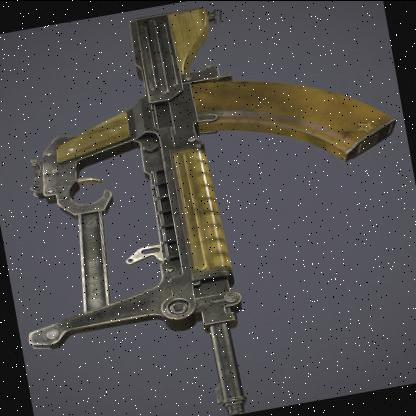rifle: (24, 0, 385, 416)
